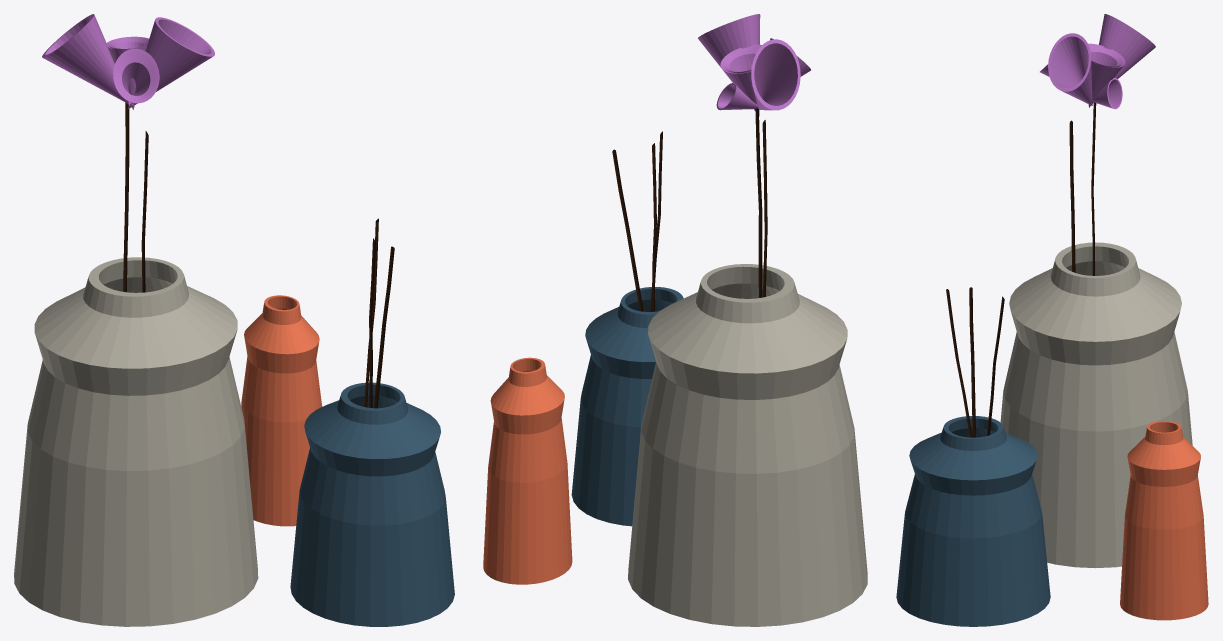
The model's file is flower_pot.fbx.
3 renders of one model, left to right at view 1: azimuth 30°, elevation 25°; view 2: azimuth 150°, elevation 25°; view 3: azimuth 270°, elevation 25°, orthographic. The views are drawn at different scales.
Visible parts, largest first — view 1: Cylinder, Cylinder.004, Cylinder.003, Cone.002, Cone.003, Cone.001, Cylinder.002, Cone.005, Cylinder.006, Cylinder.005, Cylinder.001; view 2: Cylinder, Cylinder.003, Cylinder.004, Cone.002, Cone.003, Cone.005, Cylinder.002, Cone.004, Cylinder.007, Cylinder.001, Cylinder.005; view 3: Cylinder, Cylinder.004, Cylinder.003, Cone.003, Cone.002, Cone.005, Cylinder.001, Cylinder.005, Cone.004, Cylinder.002, Cylinder.006, Cylinder.007.
Part boxes in pixels (x1,y1,x2,y2): Cylinder: (14,257,258,626); Cylinder.004: (290,382,454,626); Cylinder.003: (241,295,322,526); Cone.002: (42,14,133,106); Cone.003: (127,17,214,109); Cone.001: (113,48,159,103); Cylinder.002: (123,102,129,292); Cone.005: (106,36,148,109); Cylinder.006: (374,246,394,408); Cylinder.005: (369,238,375,407); Cylinder.001: (141,131,148,292); Cylinder: (628,264,867,626); Cylinder.003: (483,357,572,584); Cylinder.004: (571,287,683,526); Cone.002: (751,39,800,110); Cone.003: (698,14,760,116); Cone.005: (720,44,761,111); Cylinder.002: (755,108,762,297); Cone.004: (716,83,757,110); Cylinder.007: (612,149,643,311); Cylinder.001: (762,120,767,297); Cylinder.005: (652,143,656,311); Cylinder: (1000,242,1192,568); Cylinder.004: (896,416,1050,626); Cylinder.003: (1120,420,1208,620); Cone.003: (1048,33,1092,105); Cone.002: (1099,14,1155,78); Cone.005: (1088,43,1125,107); Cylinder.001: (1069,120,1075,272); Cylinder.005: (969,287,975,437); Cone.004: (1093,78,1122,109); Cylinder.002: (1091,102,1096,275); Cylinder.006: (946,289,972,437); Cylinder.007: (987,296,1004,435).
Size of the model in its own units: 132 by 207 by 118.
